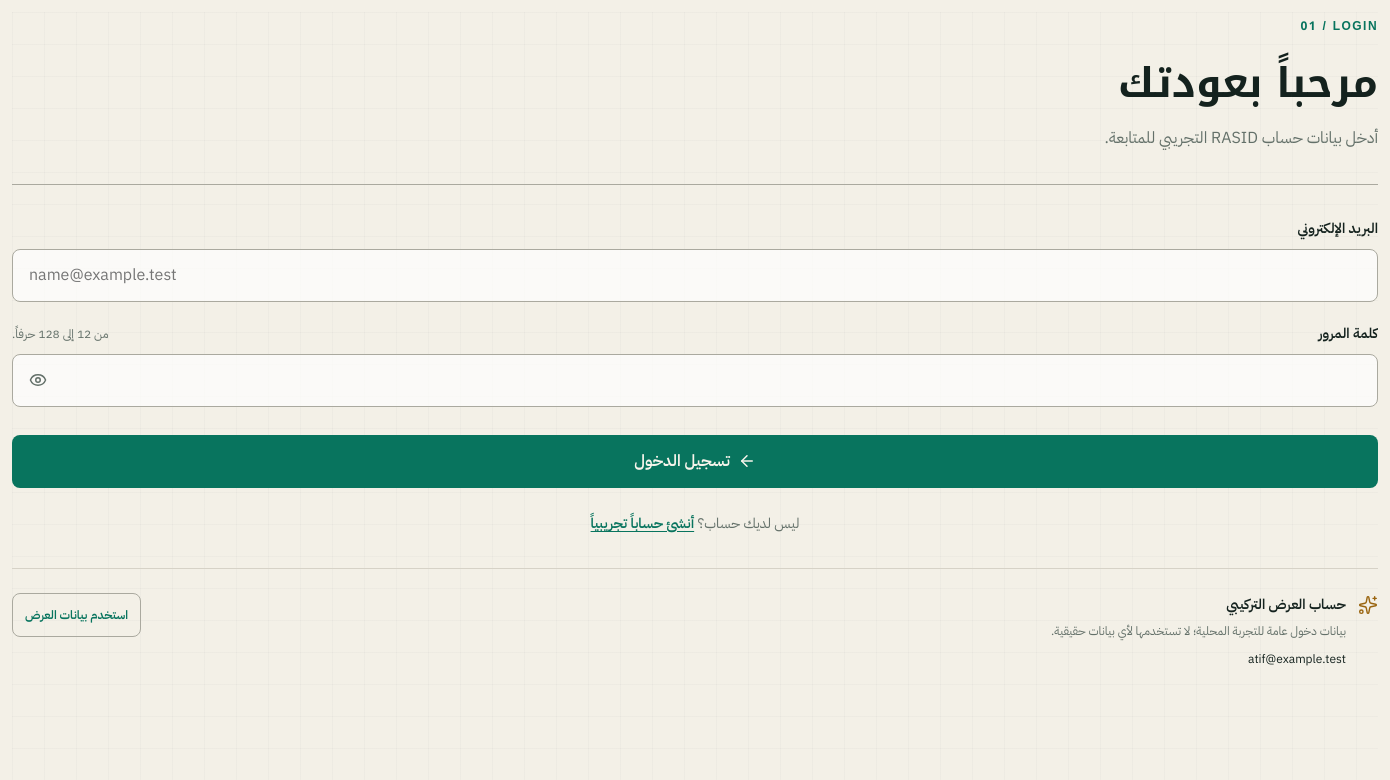
Scenario: AuthForm › fills the documented demo account and renders an invalid-credentials error
Click the button "استخدم بيانات العرض" at (77, 615), box [12,593,141,637]
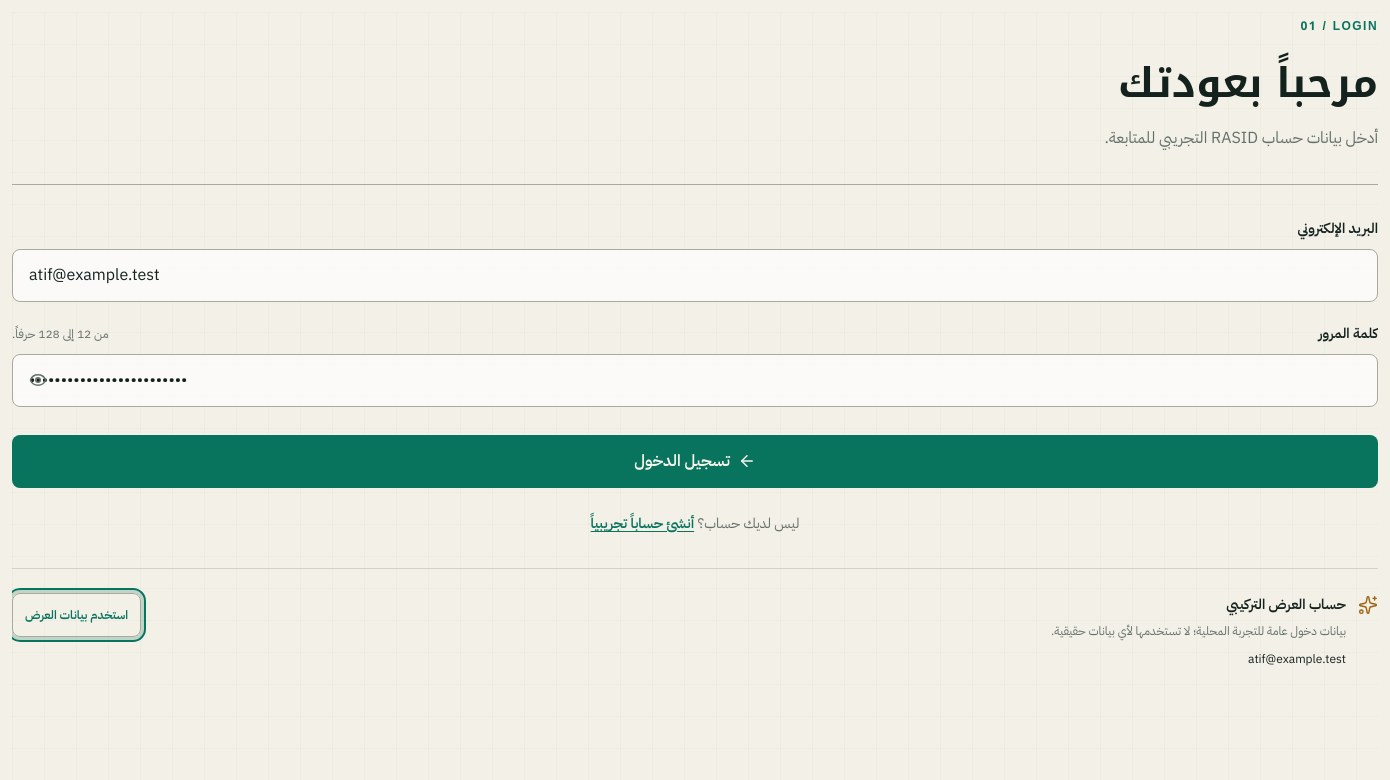
Check: the field labelled "البريد الإلكتروني" holds "atif@example.test", box [12,248,1378,302]
Click the button "تسجيل الدخول" at (695, 461), box [12,435,1378,488]
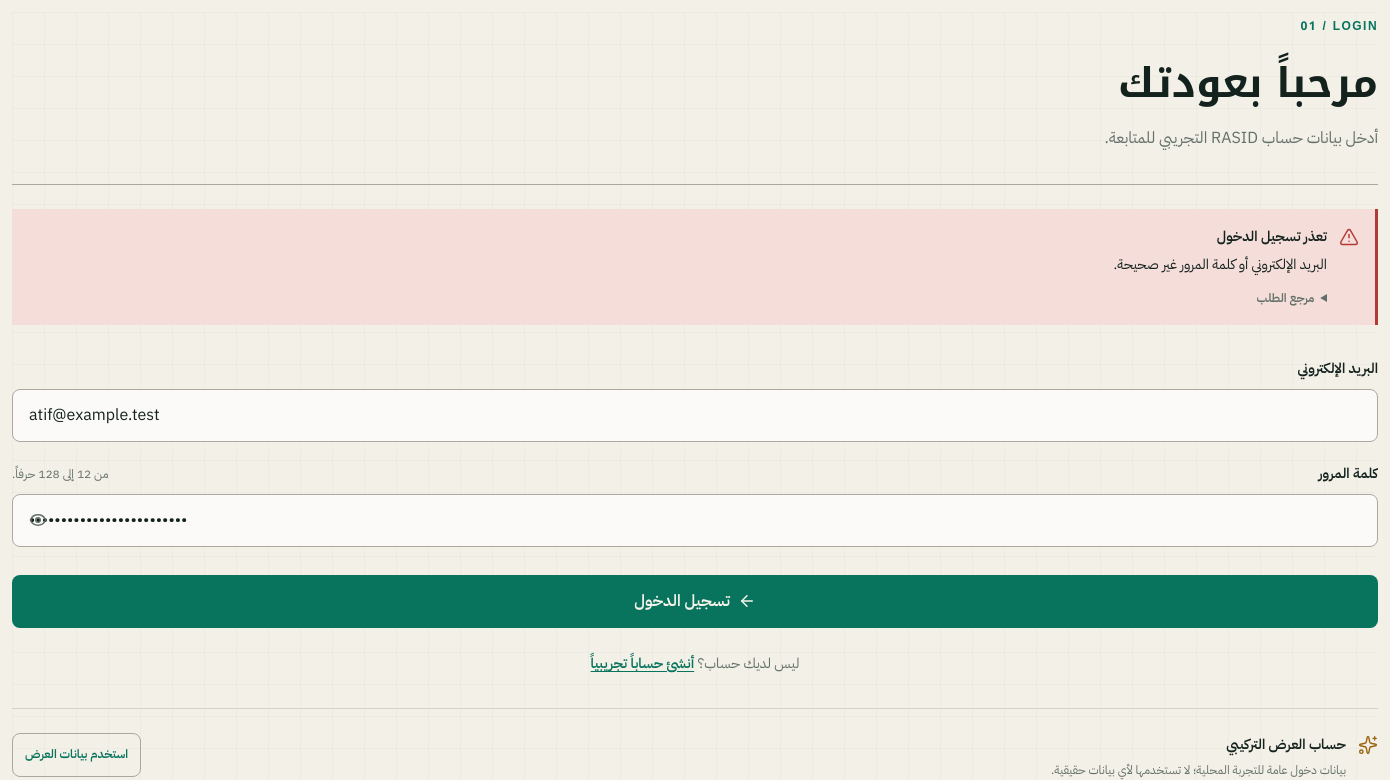
Check: the text "تعذر تسجيل الدخول" is shown, box [1217,226,1327,247]
Check: the text "البريد الإلكتروني أو كلمة المرور غير صحيحة." is shown, box [1114,254,1327,274]
